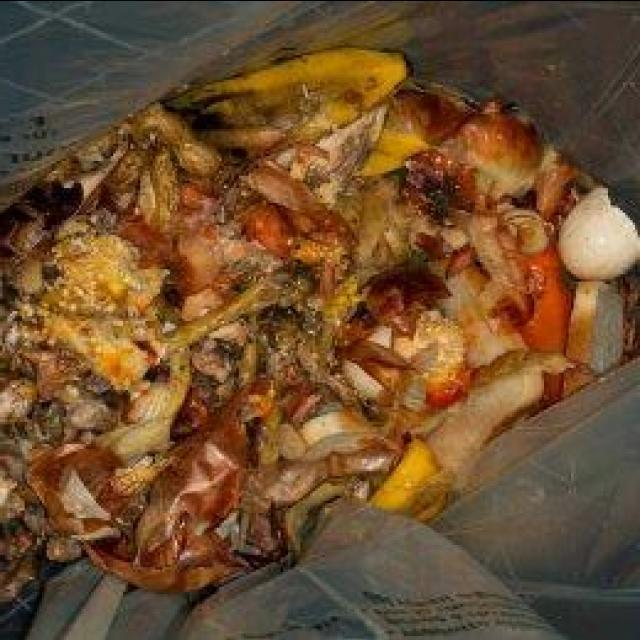Garbage: (1, 40, 640, 625)
